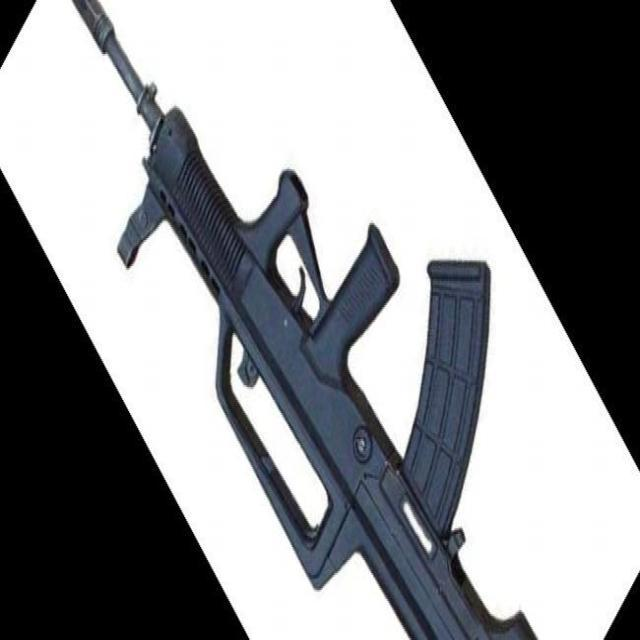weapon: (71, 0, 538, 640)
